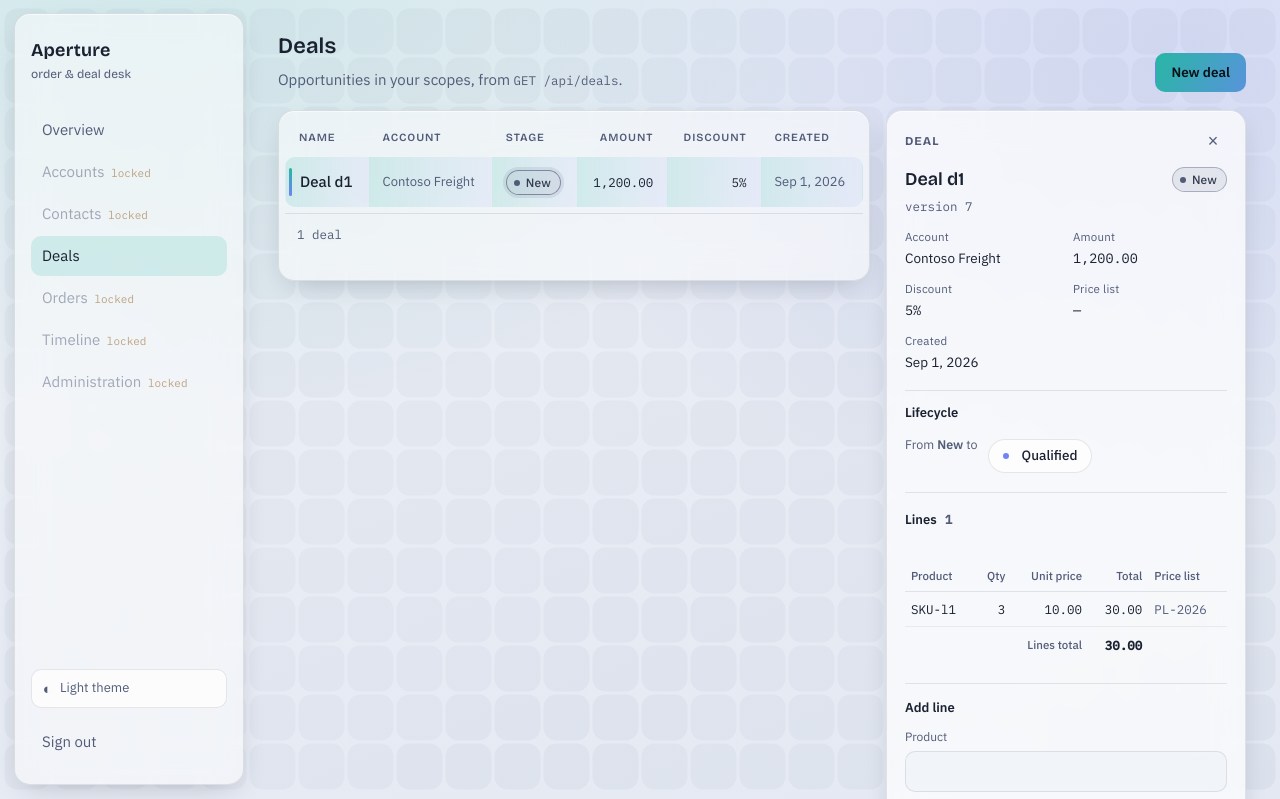
Add line › Given a deal detail, when a line is added, then the detail refetches and shows the new line from the server
Type "GASKET-2" into the field labelled "Product" at (1066, 771), box [905,751,1227,792]
(page scrolled)
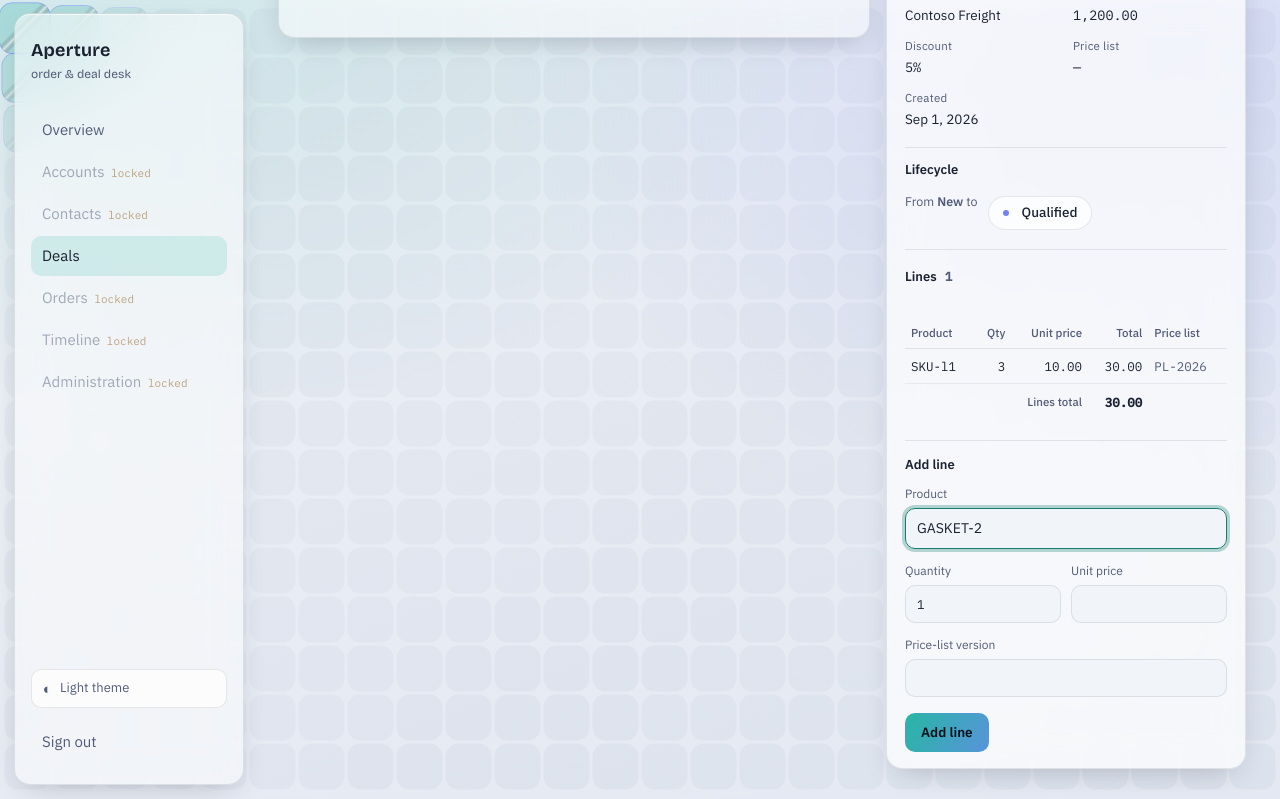
Replace the text in the field labelled "Quantity" with "5" at (983, 604), box [905,585,1061,623]
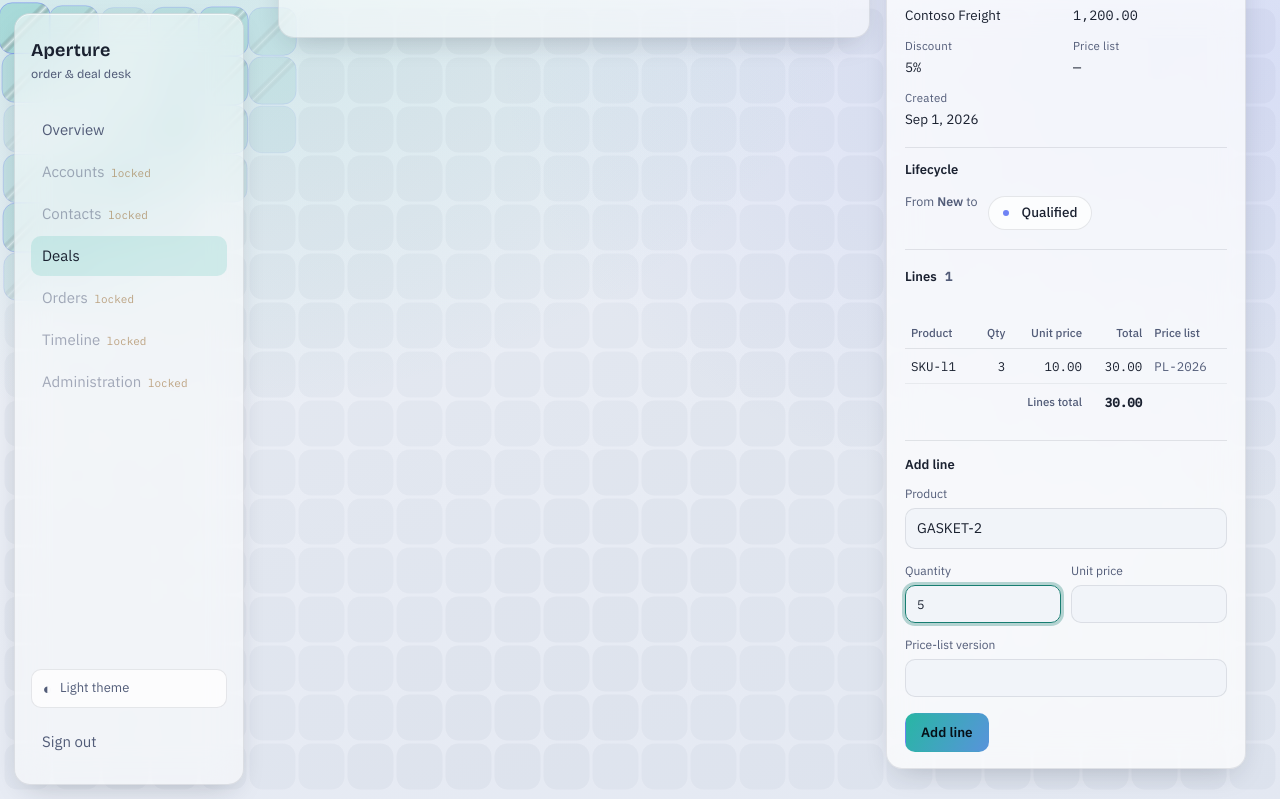
Type "7.5" into the field labelled "Unit price" at (1149, 604), box [1071,585,1227,623]
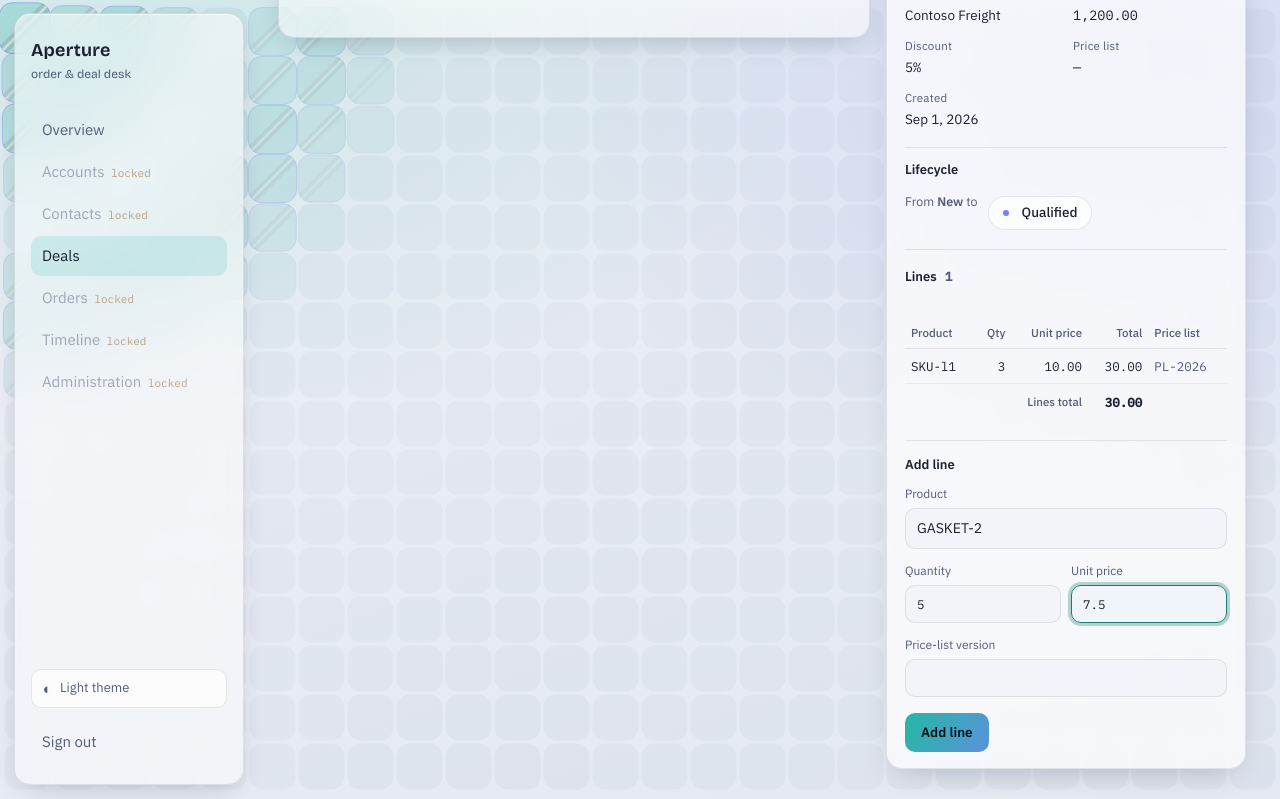
Type "PL-9" into the field labelled "Price-list version" at (1066, 678), box [905,659,1227,697]
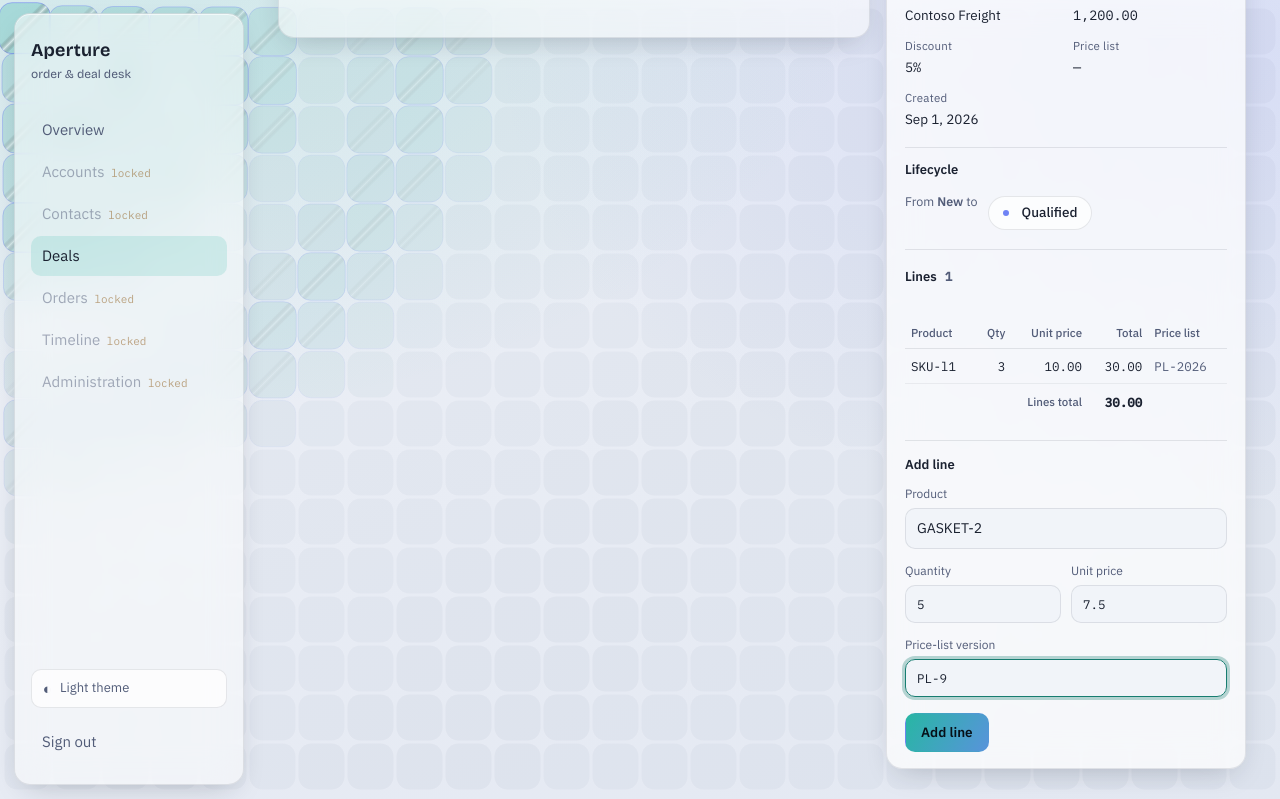
Click the button "Add line" at (947, 733), box [905,713,989,752]
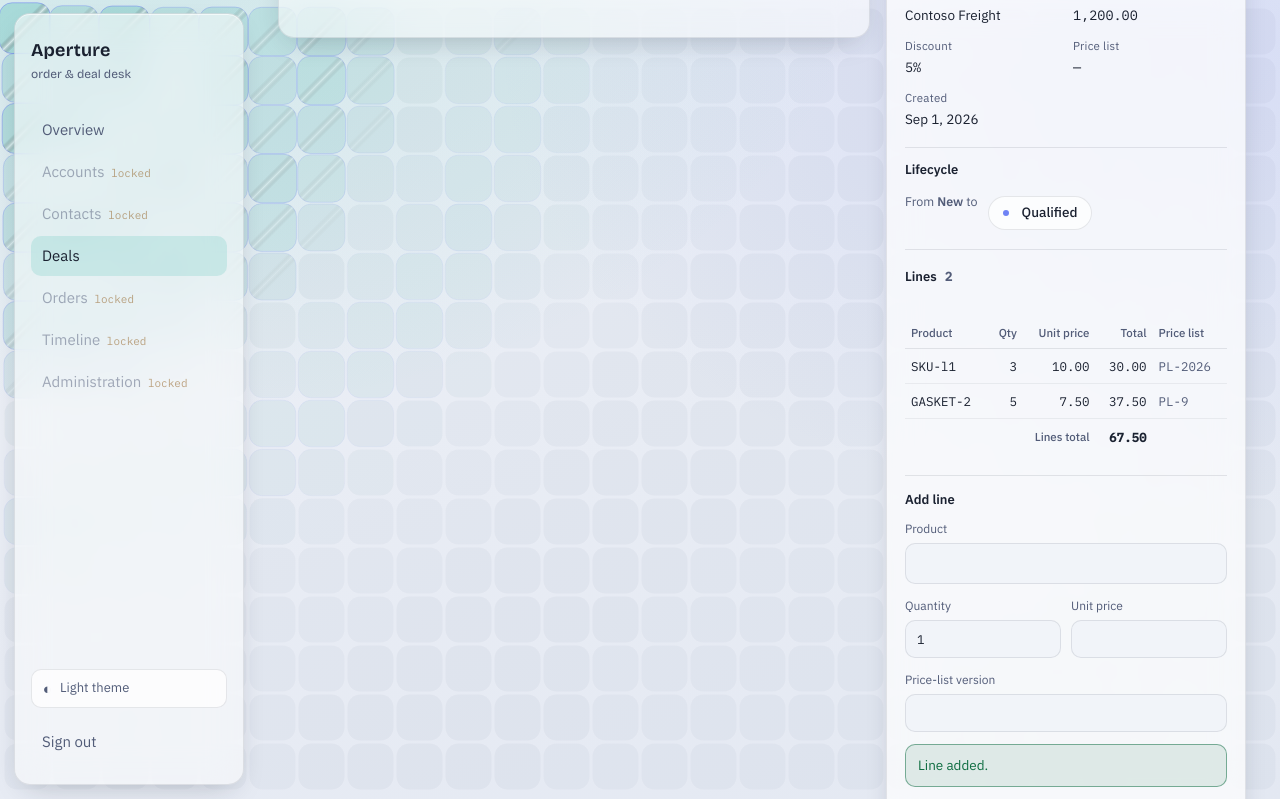
Check: the row with test id "line-n1" shows "GASKET-2", box [911,393,971,409]
Check: the row with test id "line-n1" shows "37.50", box [1109,393,1147,409]
Check: the field labelled "Product" is empty, box [905,543,1227,584]
